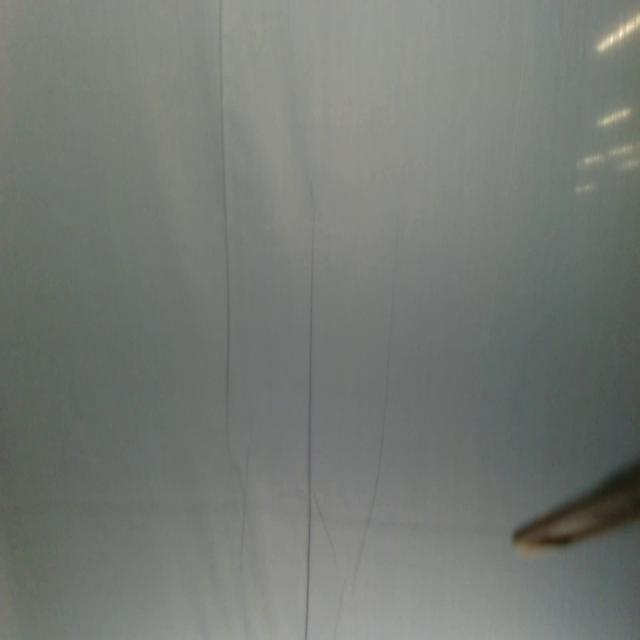crease: (353, 221, 401, 584), (218, 0, 236, 449), (300, 208, 318, 640)
